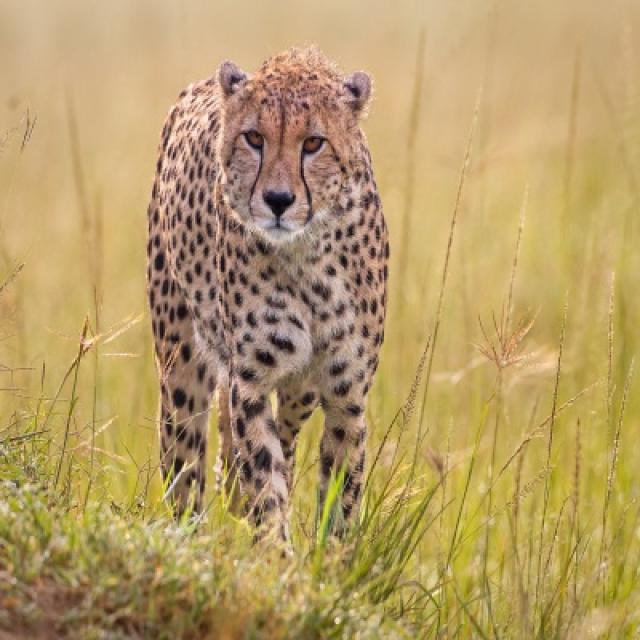Cheetah: (144, 45, 389, 555)
